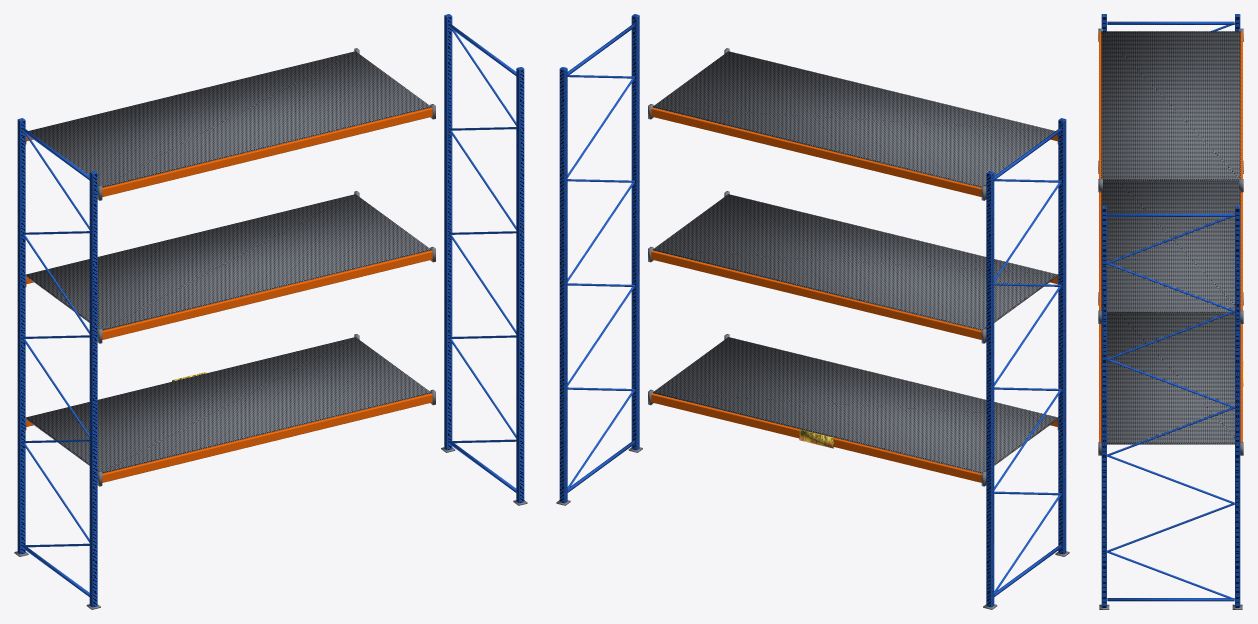
The model's file is p_rack.glb.
3 views of the same model, side by side, from view 1: azimuth 30°, elevation 25°; view 2: azimuth 150°, elevation 25°; view 3: azimuth 270°, elevation 25° (orthographic). The views are drawn at different scales.
Parts seen in each view (by area): view 1: bay, frame; view 2: bay, frame; view 3: bay, frame.
Part boxes in pixels (x1,y1,x2,y2): bay: [14, 48, 435, 609]; frame: [441, 14, 527, 505]; bay: [648, 48, 1069, 609]; frame: [556, 14, 642, 505]; bay: [1098, 14, 1243, 455]; frame: [1099, 206, 1242, 609].
Bounding box in the file's own units: 7.66 × 7.3 × 2.4.
Materials: 6 (3 with a texture image).
